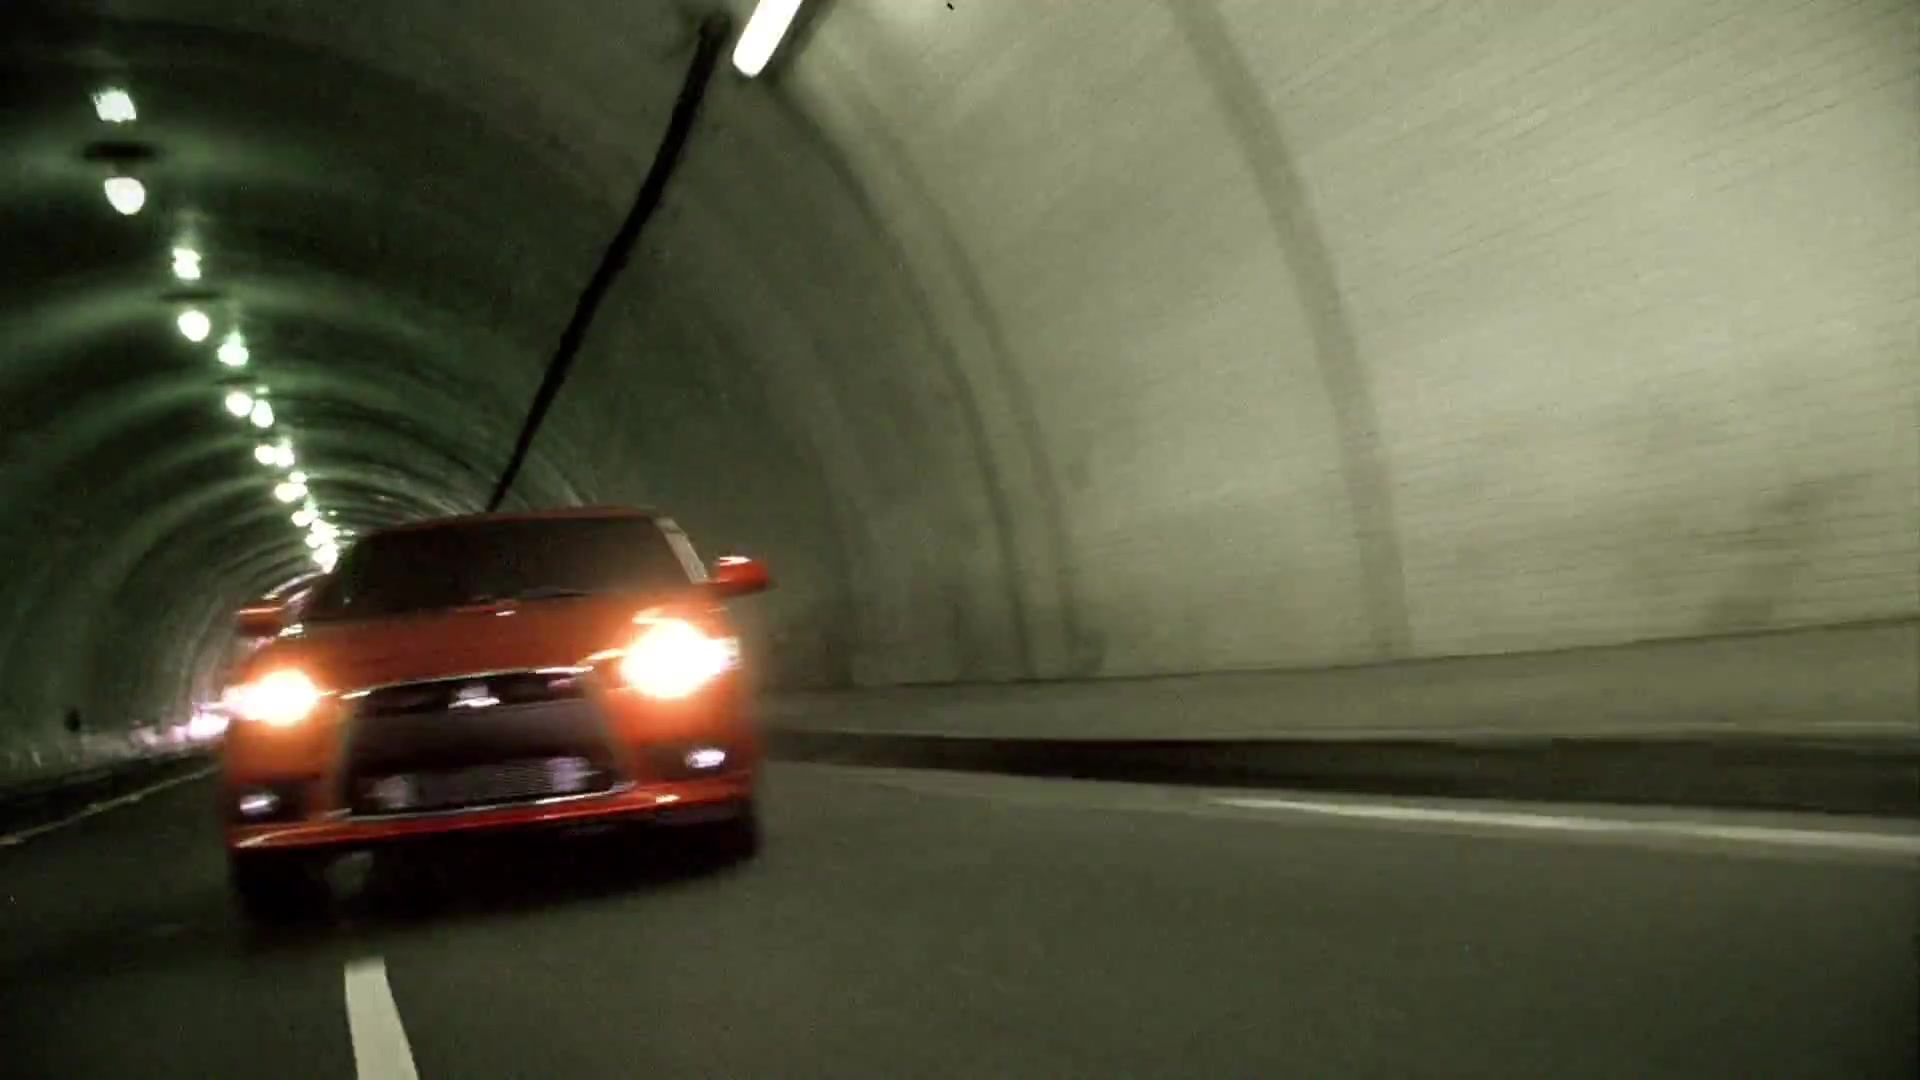car: (194, 495, 785, 909)
